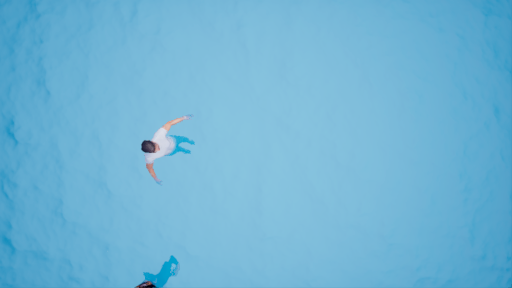person: (135, 100, 204, 182), (135, 247, 185, 288)
